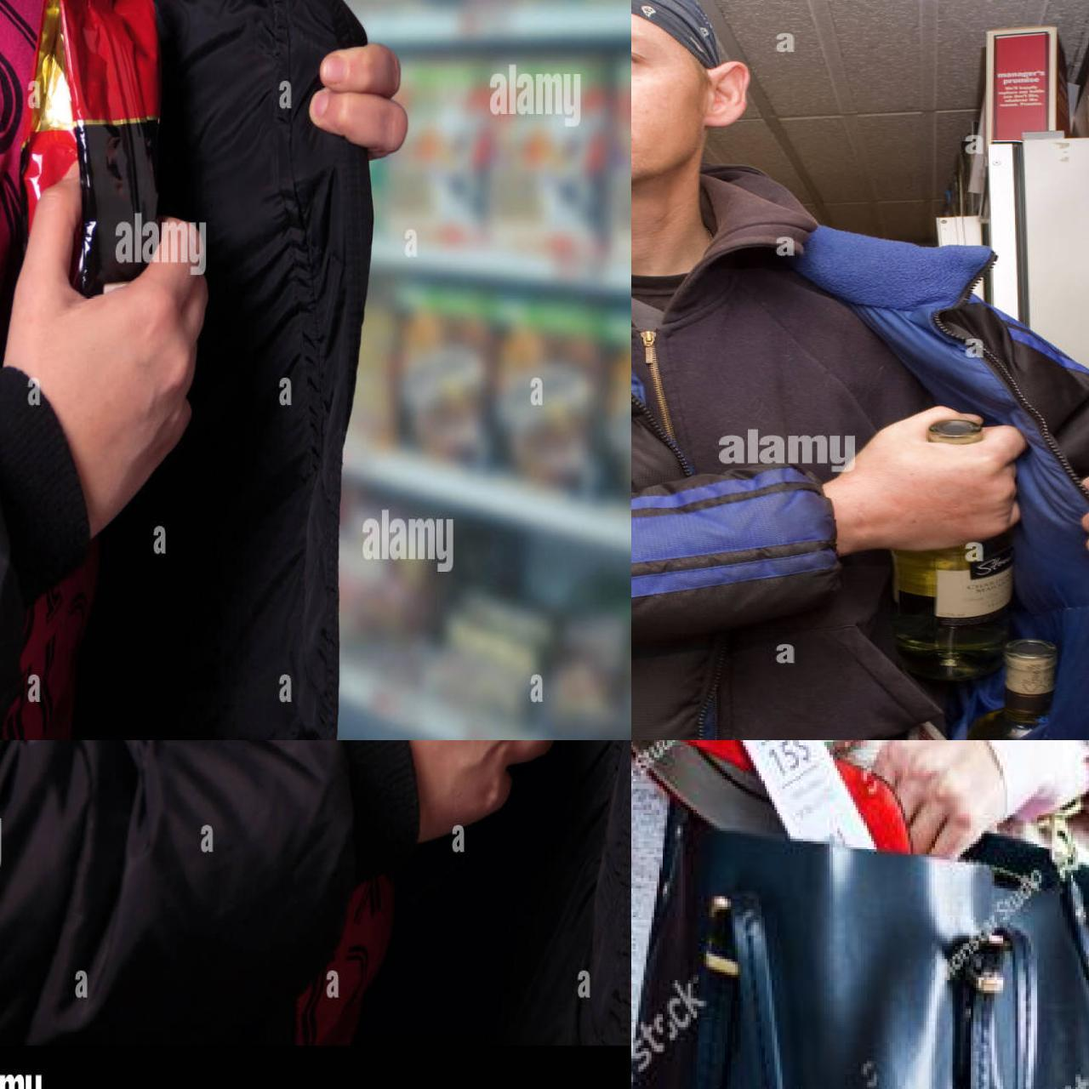shoplifting: (0, 0, 423, 733), (678, 288, 1088, 737)
